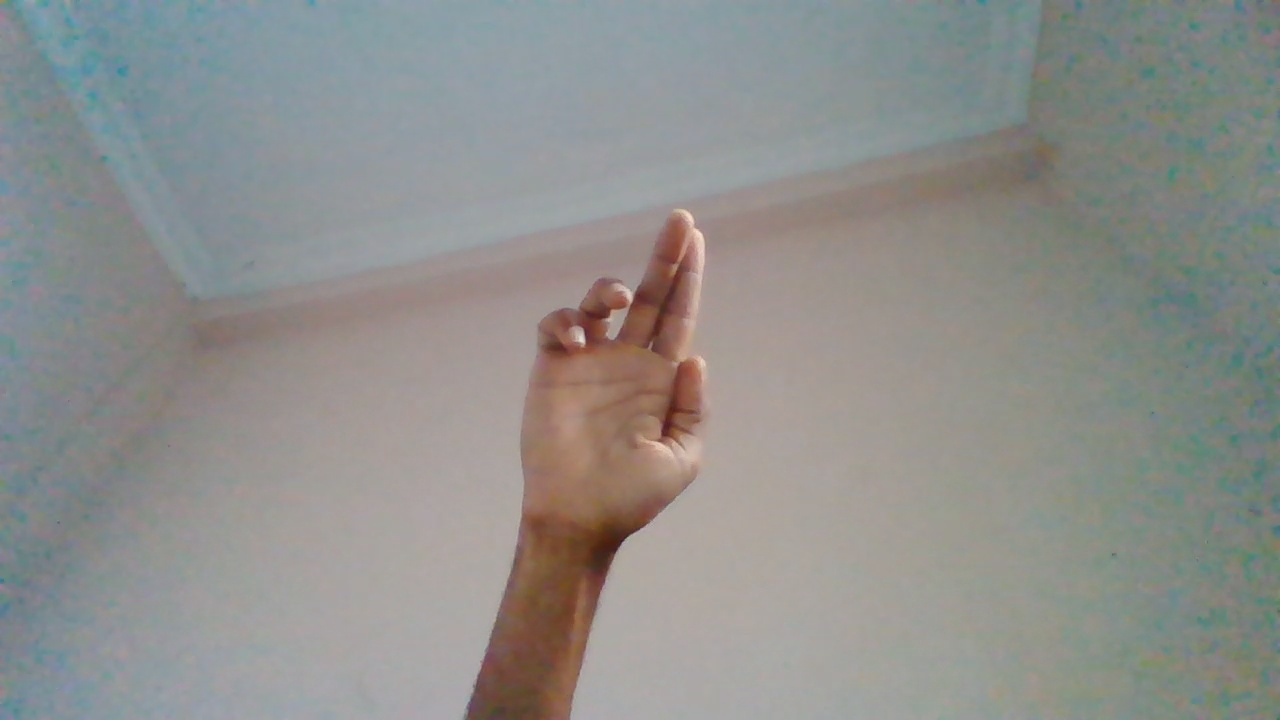gne: (518, 204, 701, 610)
